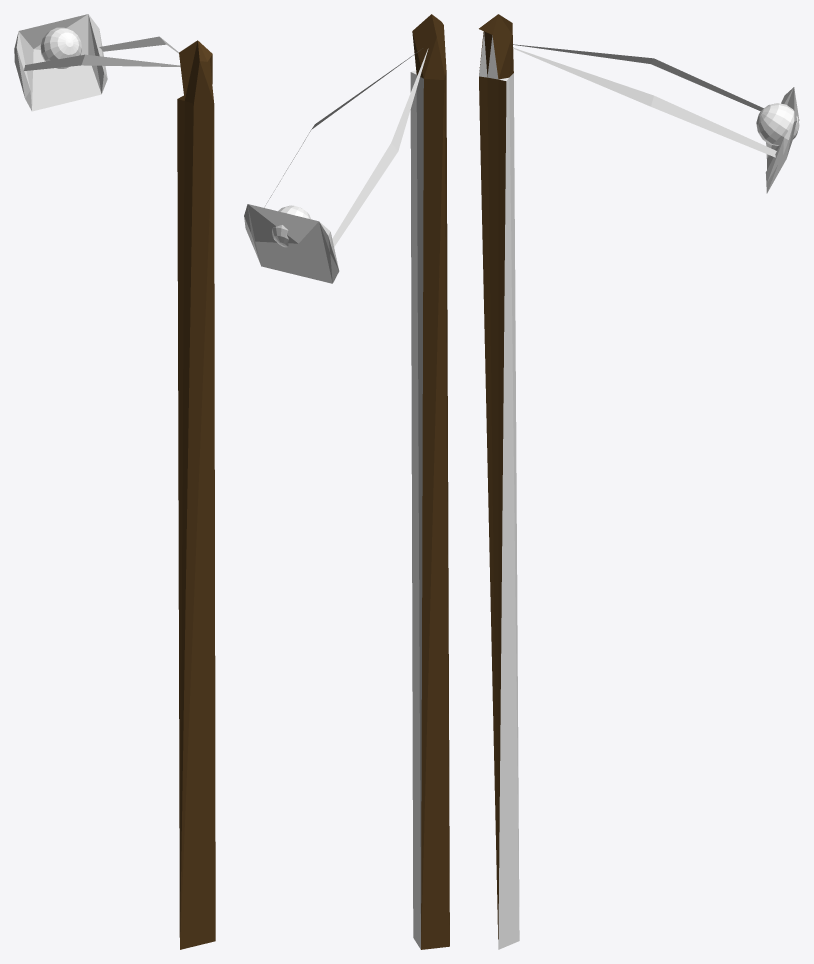
The model's file is Фистбул.fbx.
3 views of the same model, side by side, from view 1: azimuth 30°, elevation 25°; view 2: azimuth 150°, elevation 25°; view 3: azimuth 270°, elevation 25° (orthographic). The views are drawn at different scales.
Visible parts, largest first — view 1: фистбул; view 2: фистбул; view 3: фистбул.
Part boxes in pixels (left/top/right/bottom): фистбул: left=14, top=14, right=215, bottom=949; фистбул: left=244, top=14, right=449, bottom=949; фистбул: left=479, top=14, right=799, bottom=949.
Size of the model in its own units: 0.0651 by 0.6548 by 0.2055.
